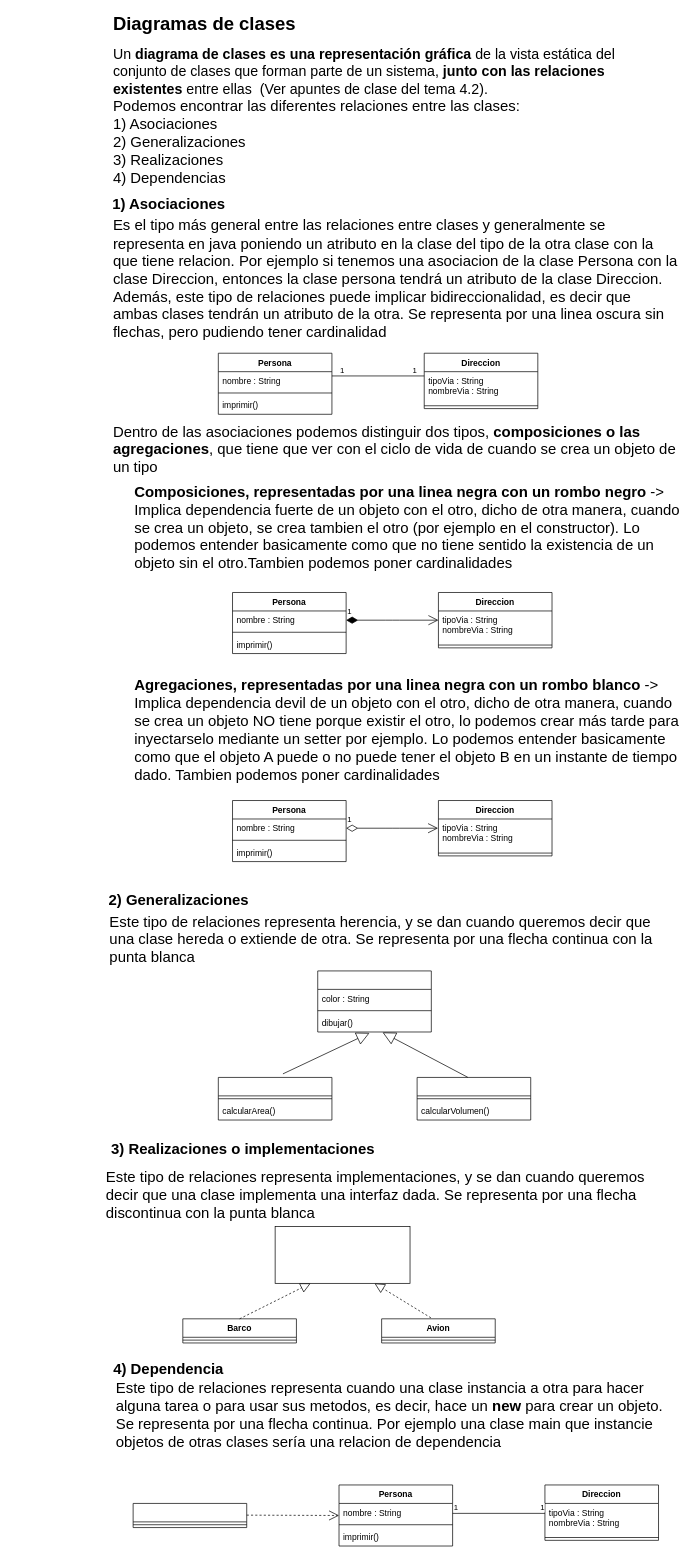
Some shapes in this 699 by 1560 pixel diagram are drawn without their labels. Each missing label, with the box of its shape:
<<Interface>> Movible + moverseLento() + moverseRapido(): (274, 1226, 410, 1283)
Figura: (317, 970, 431, 1032)
Figura2D: (218, 1077, 332, 1120)
Figura3D: (416, 1077, 531, 1120)
ProgramaPrincipal: (132, 1503, 247, 1528)
